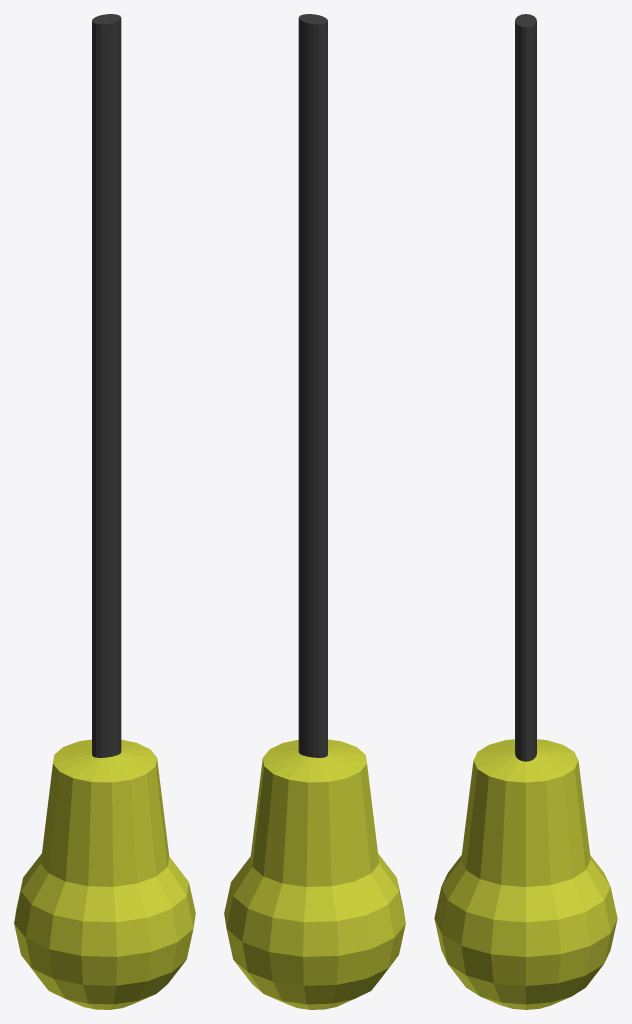
The model's file is lights Long cable.fbx.
The picture shows the model from 3 angles, left to right: view 1: azimuth 30°, elevation 25°; view 2: azimuth 150°, elevation 25°; view 3: azimuth 270°, elevation 25°; orthographic projection.
Visible parts, largest first — view 1: Sphere, Cylinder_5; view 2: Sphere, Cylinder_5; view 3: Sphere, Cylinder_5.
Boxes of the visible parts, x1,y1,x2,y2 form: Sphere: (14,739,195,1009); Cylinder_5: (92,14,121,757); Sphere: (224,739,405,1009); Cylinder_5: (298,14,327,757); Sphere: (434,739,617,1009); Cylinder_5: (515,14,536,761).
Bounding box in the file's own units: 31.11 × 184 × 31.11.
